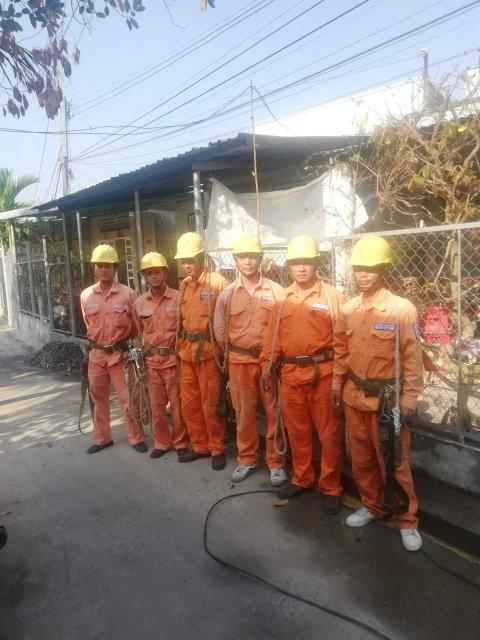harness: (344, 363, 410, 403), (273, 351, 339, 376), (216, 334, 270, 361), (125, 336, 178, 360), (176, 326, 222, 346), (84, 342, 132, 358)
helmet: (341, 238, 407, 269), (169, 228, 210, 262), (84, 235, 124, 265), (281, 236, 323, 263), (233, 231, 269, 261), (135, 253, 173, 271)
shoes: (71, 426, 121, 461), (391, 513, 424, 564), (341, 502, 382, 528), (311, 484, 344, 515), (281, 471, 311, 502), (266, 460, 289, 490), (171, 448, 205, 462), (231, 464, 259, 479), (146, 437, 162, 461), (206, 453, 226, 472), (128, 438, 144, 457), (168, 443, 185, 454)
